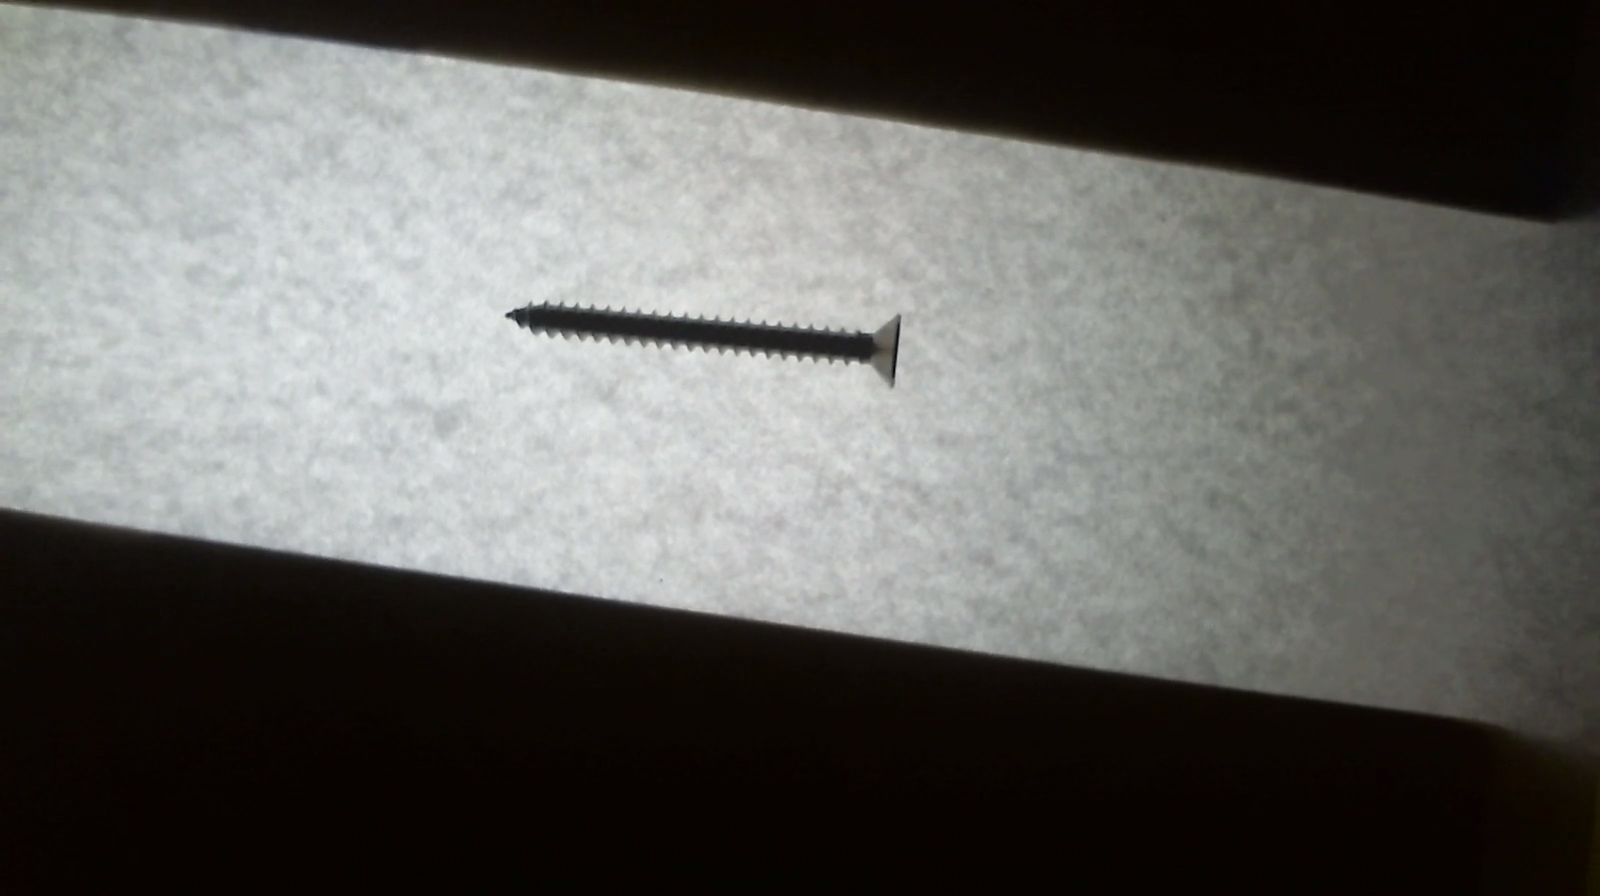S002: (495, 292, 908, 394)
